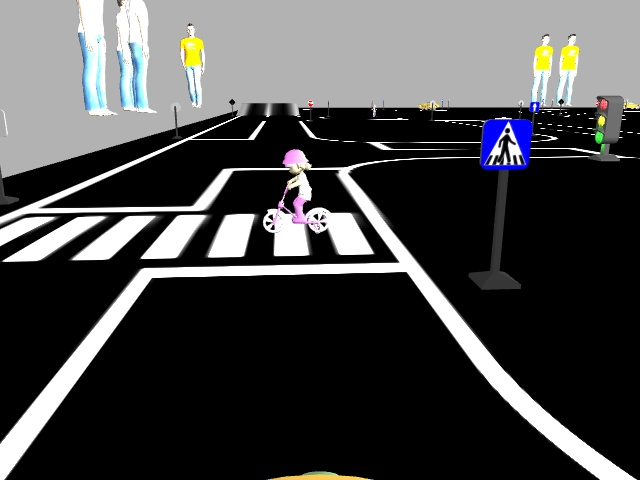Crosswalk: (481, 119, 532, 169)
Pedestrian: (260, 147, 334, 233)
TrafficLight: (594, 94, 624, 146)
